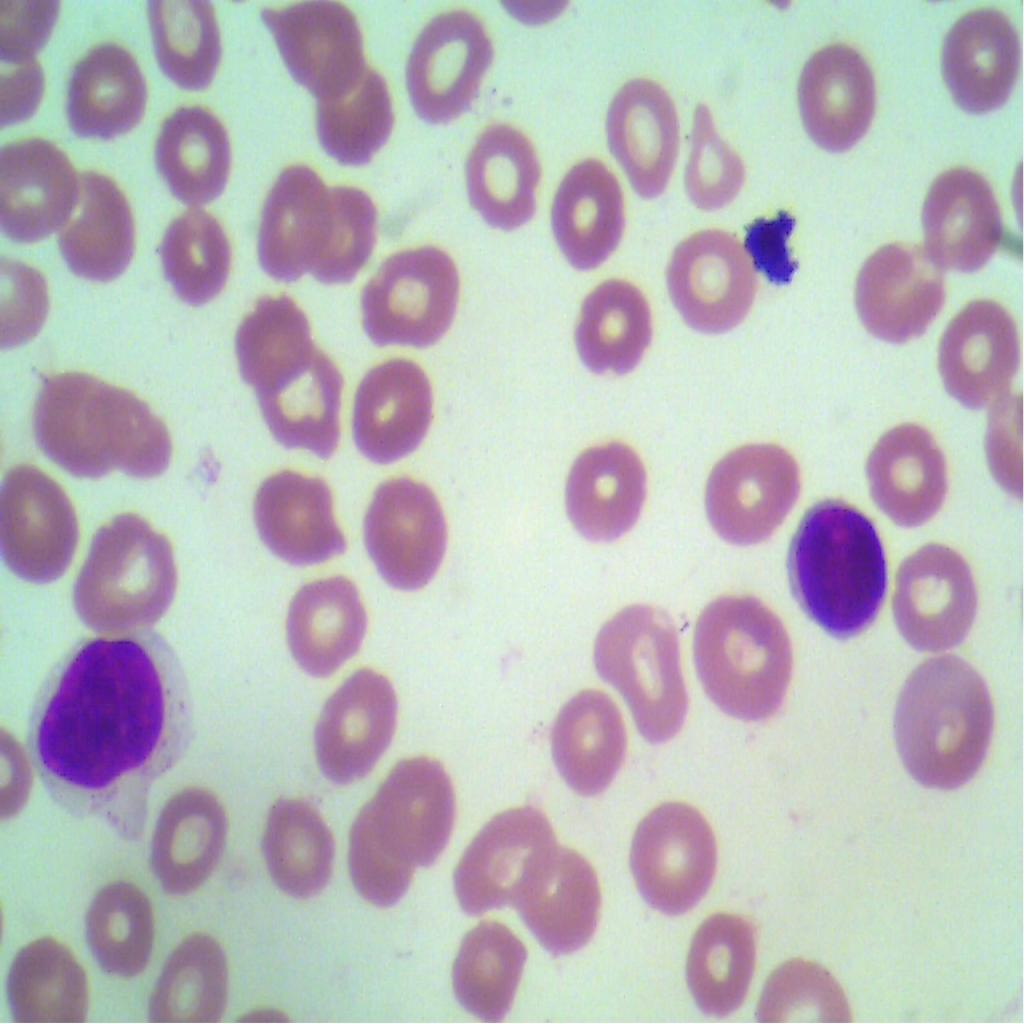Eritrosit: (584, 594, 694, 752), (888, 651, 994, 798), (71, 508, 189, 634), (694, 591, 796, 731), (246, 447, 358, 574), (453, 802, 564, 925), (629, 785, 721, 930), (360, 460, 450, 602), (564, 272, 670, 390), (309, 664, 401, 799), (701, 434, 806, 551), (391, 0, 491, 122), (796, 21, 883, 161), (558, 426, 651, 554), (49, 158, 138, 290), (841, 234, 950, 341), (358, 239, 462, 351), (662, 219, 758, 340), (146, 767, 235, 897), (602, 68, 684, 207), (518, 838, 604, 966), (886, 530, 980, 645), (936, 285, 1023, 408), (0, 467, 86, 591), (249, 157, 330, 288), (30, 358, 118, 478), (542, 678, 628, 798), (918, 157, 1003, 277), (931, 8, 1023, 118), (859, 418, 954, 524), (261, 4, 369, 97), (310, 60, 400, 170), (444, 918, 538, 1023), (282, 568, 368, 682), (150, 100, 238, 211), (61, 38, 149, 148), (269, 334, 348, 455), (378, 752, 463, 862), (683, 903, 761, 1022), (0, 138, 82, 248), (343, 802, 423, 912), (461, 124, 546, 225), (4, 928, 94, 1023), (356, 355, 438, 459), (86, 381, 173, 478), (261, 790, 335, 904), (303, 184, 384, 287), (681, 98, 756, 208), (158, 204, 234, 311), (548, 158, 624, 261), (230, 287, 308, 385), (88, 871, 158, 978), (151, 927, 228, 1023), (152, 0, 226, 98)
Limfosit: (26, 612, 194, 824), (789, 494, 891, 641)
